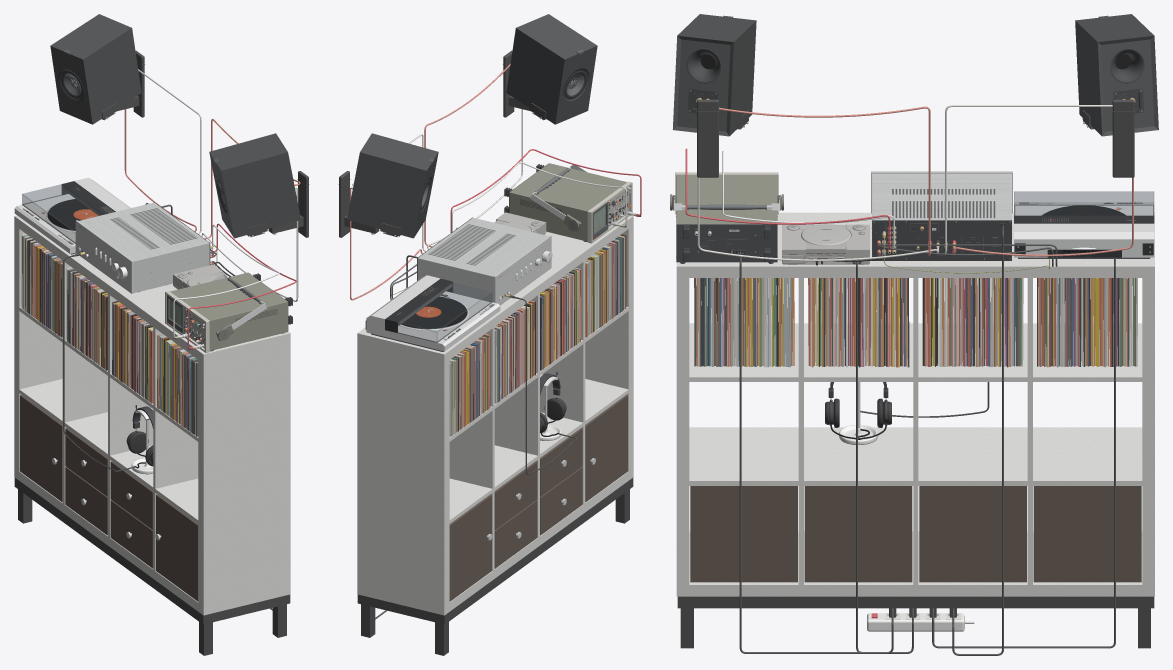
Rendered from system.glb.
3 views of the same model, side by side, from view 1: azimuth 30°, elevation 25°; view 2: azimuth 150°, elevation 25°; view 3: azimuth 270°, elevation 25° (orthographic). The views are drawn at different scales.
Bounding box in the file's own units: 58.46 × 207 × 150.
Materials: 221 (64 with a texture image).
